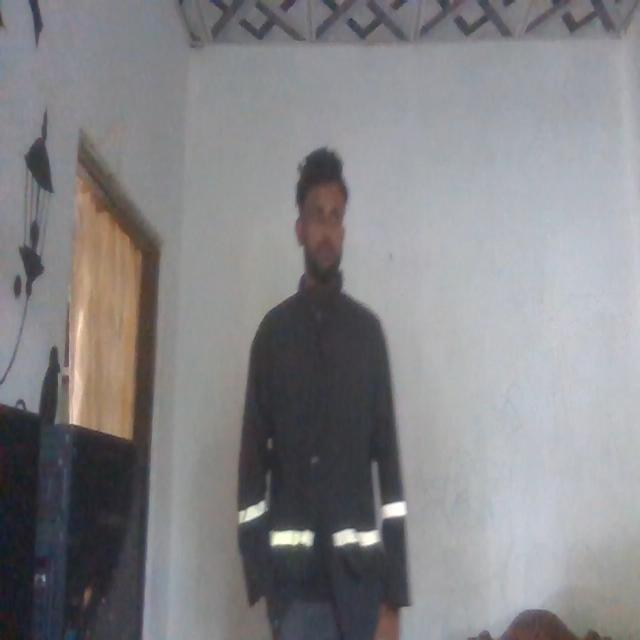Jacket_Wearer: (234, 262, 410, 592)
Person: (235, 143, 419, 640)
